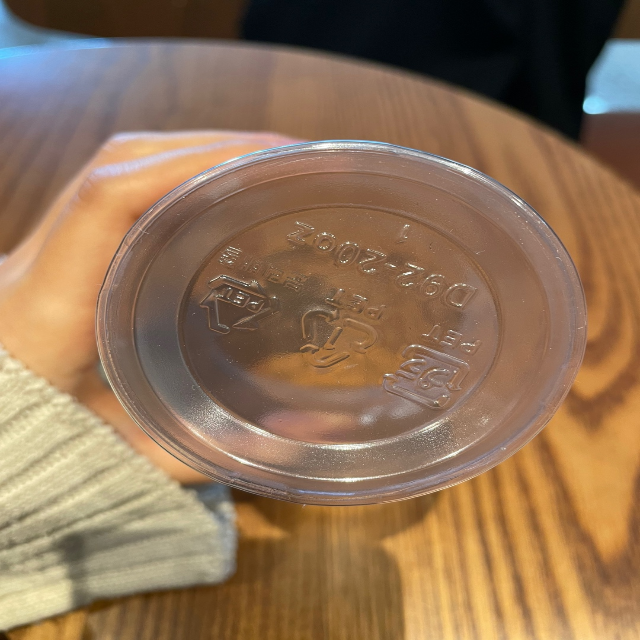pet: (193, 235, 311, 339), (374, 319, 490, 410), (292, 280, 396, 374)
